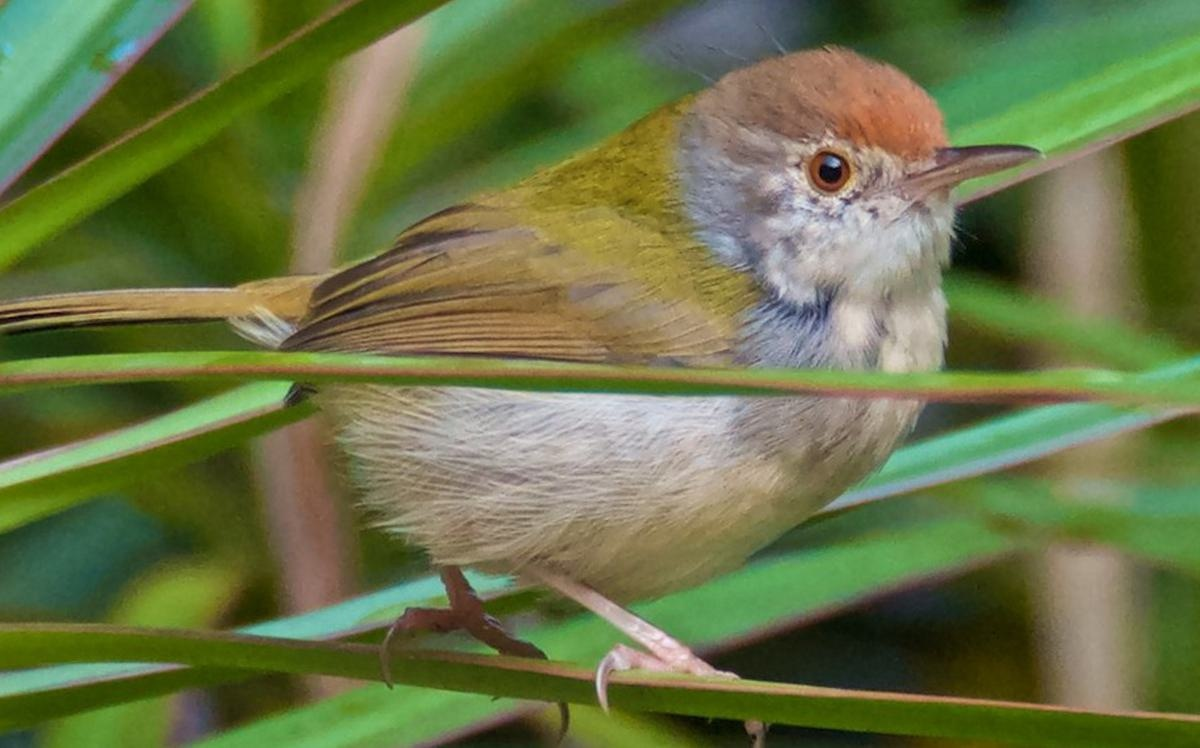tailorbird: (59, 36, 1035, 641)
